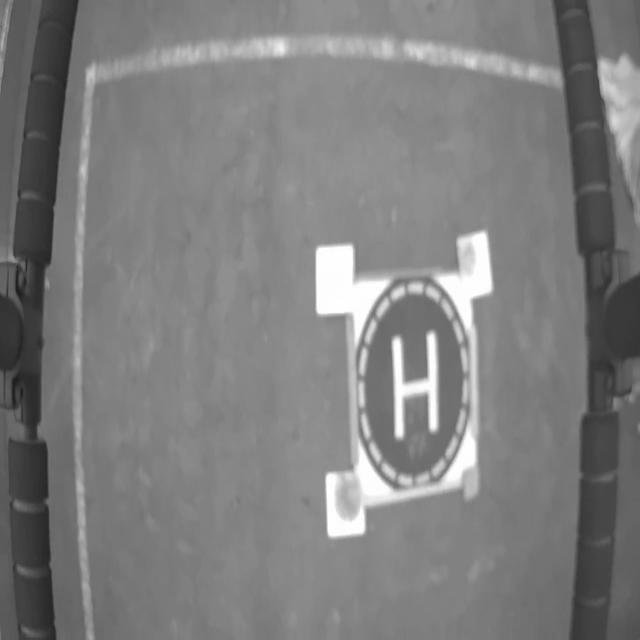Helipad: (391, 328, 440, 441)
